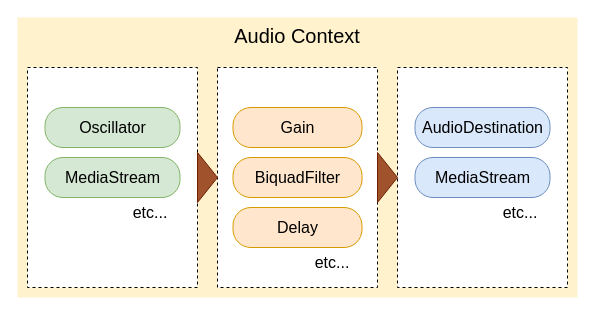
The diagram is 594 pixels wide and 314 high, and some of its shapes have lost their labels. The box of each missing label's shape, as (x1, y1, x2, y2) in pixels:
Destination Nodes: (396, 66, 568, 288)
Effect Nodes: (216, 66, 378, 288)
Source Nodes: (26, 66, 198, 288)
